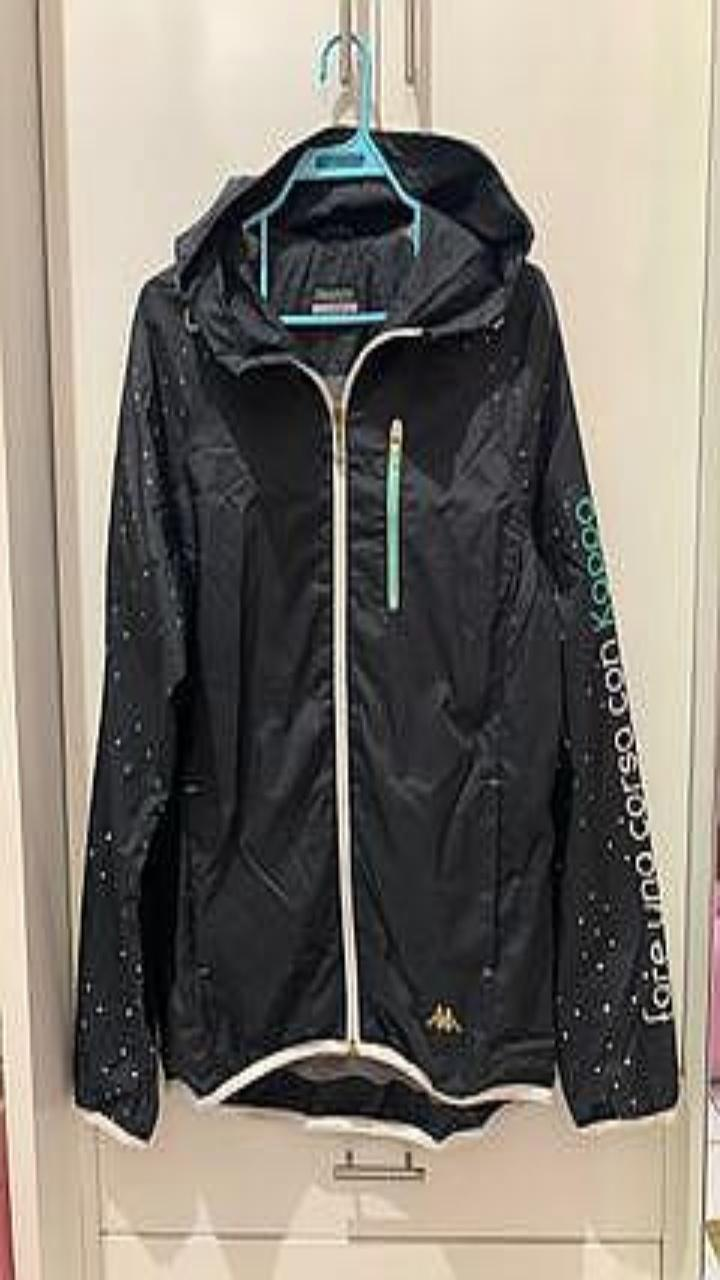Sports_Jacket: (74, 125, 678, 1144)
